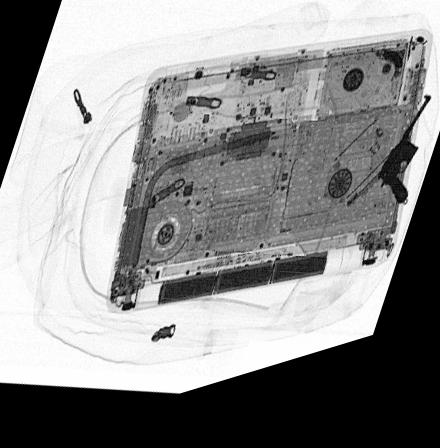Gun: (376, 117, 432, 226)
